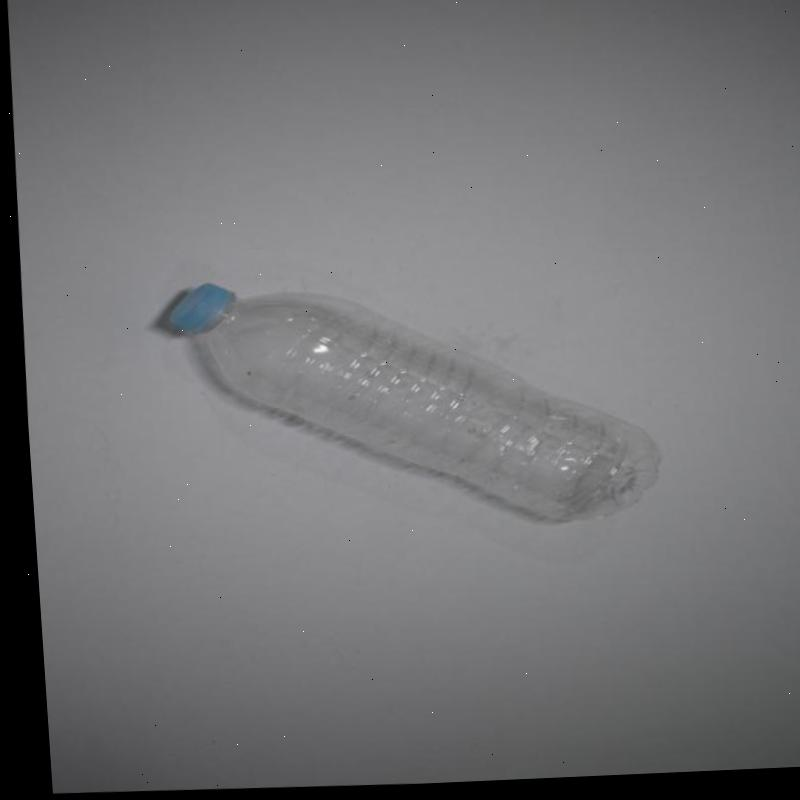botella: (159, 264, 658, 540)
